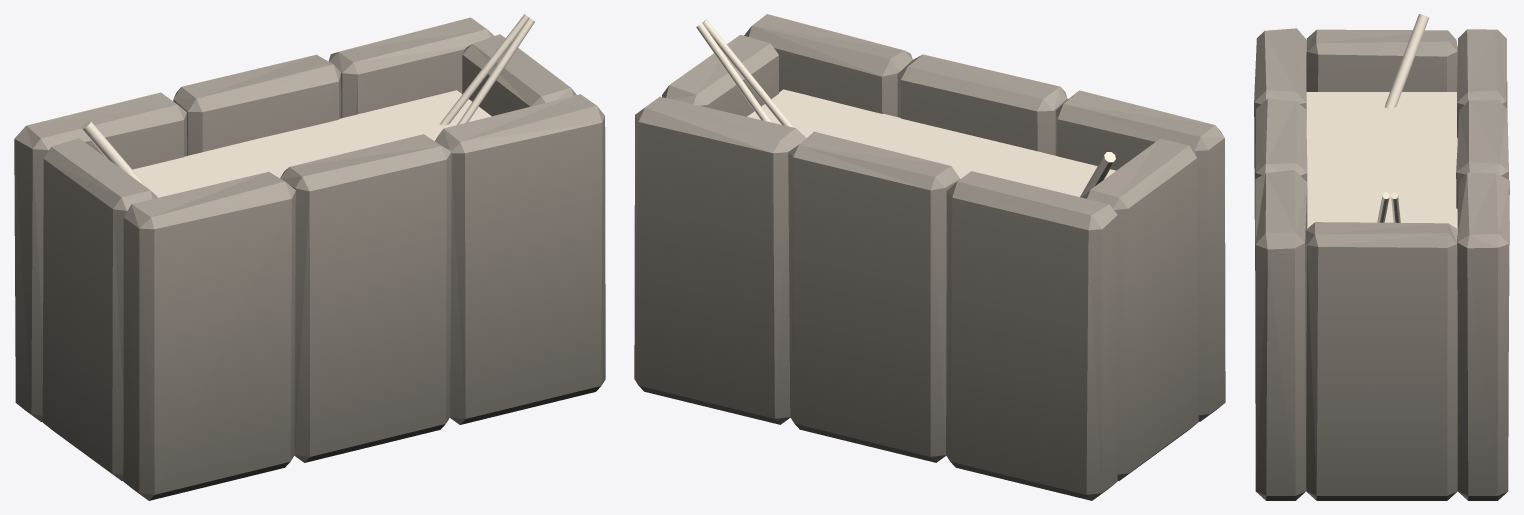
Rendered from SM_VKI_Prop_QuenchTrough_150.fbx.
3 renders of one model, left to right at view 1: azimuth 30°, elevation 25°; view 2: azimuth 150°, elevation 25°; view 3: azimuth 270°, elevation 25°, orthographic. The views are drawn at different scales.
Parts seen in each view (by area): view 1: SM_VKI_Prop_QuenchTrough_150.001; view 2: SM_VKI_Prop_QuenchTrough_150.001; view 3: SM_VKI_Prop_QuenchTrough_150.001.
Boxes of the visible parts, x1,y1,x2,y2 form: SM_VKI_Prop_QuenchTrough_150.001: (14,14,605,500); SM_VKI_Prop_QuenchTrough_150.001: (634,14,1225,500); SM_VKI_Prop_QuenchTrough_150.001: (1254,14,1509,500).
Bounding box in the file's own units: 1.2 × 0.8059 × 0.6077.
